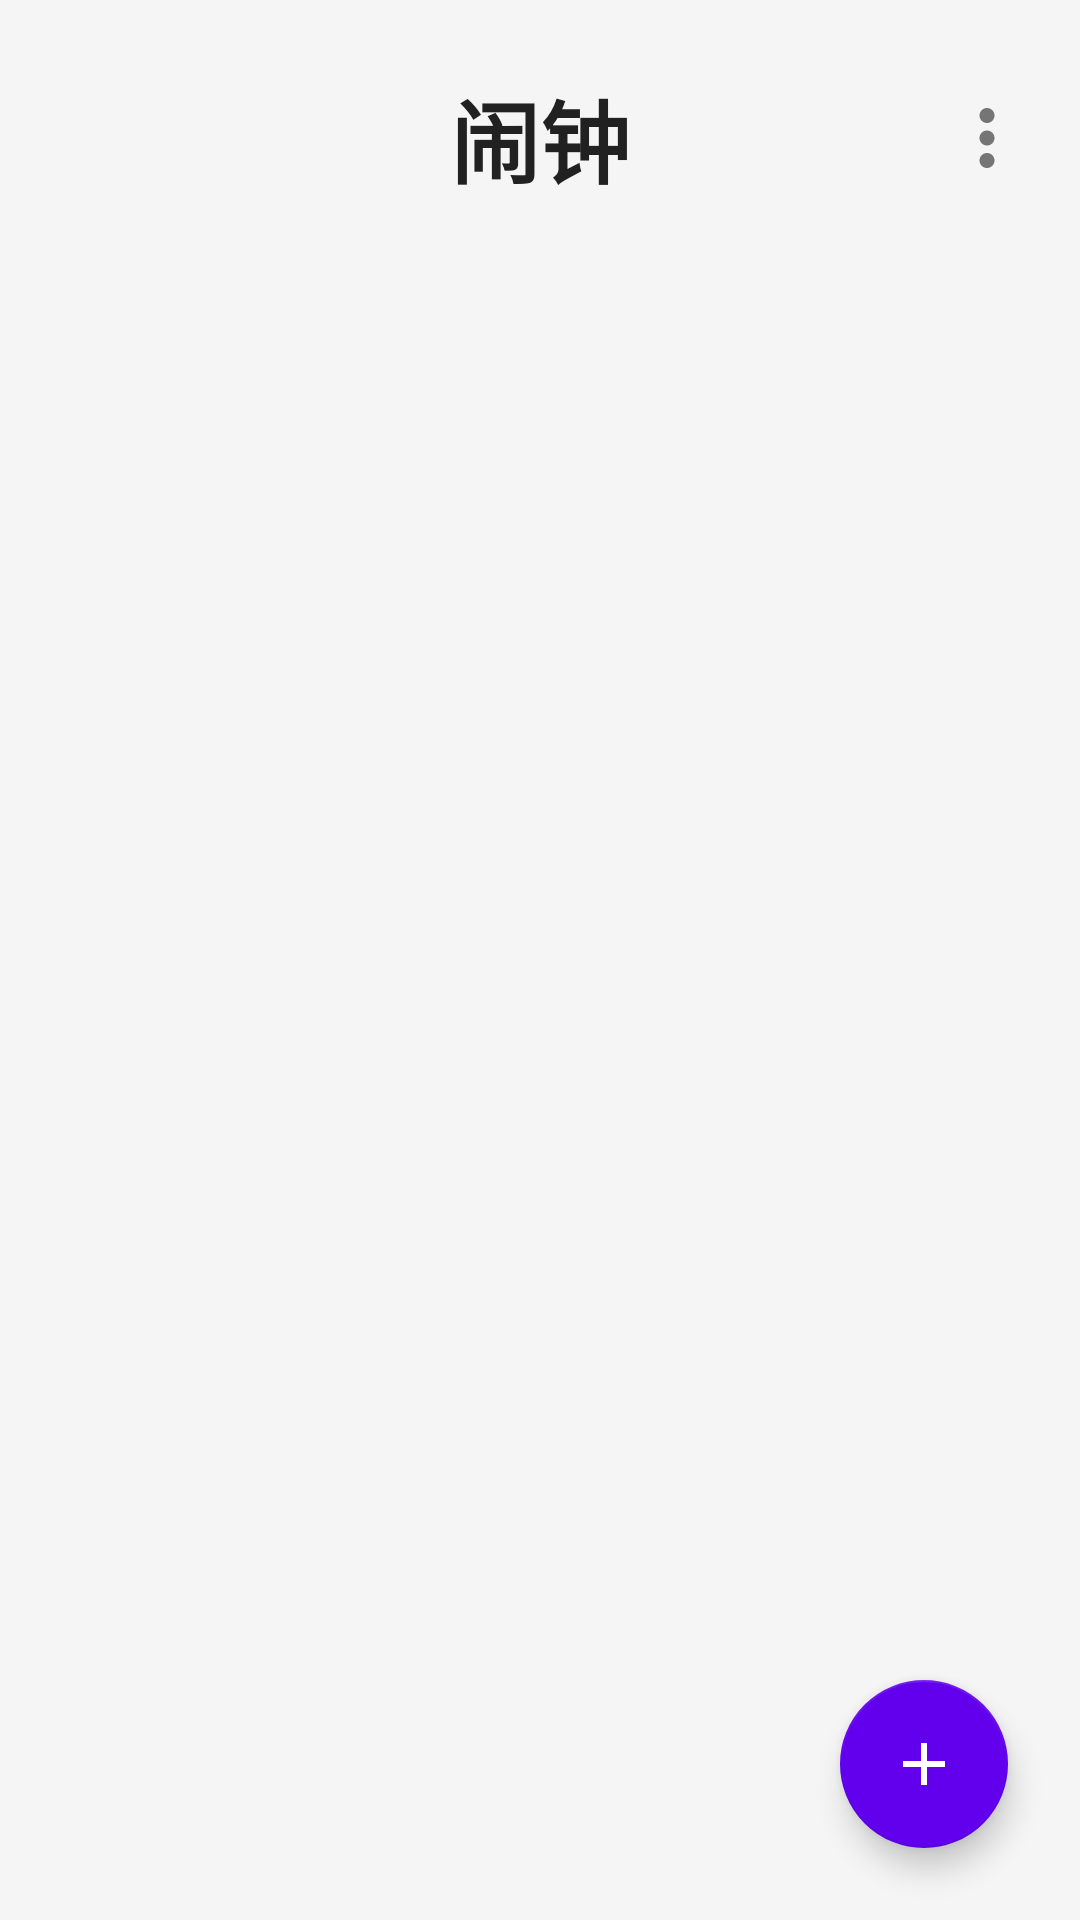

Screen size 1080w x 1920h. Icon name, then its box in pixels as bbox(x1, y1, x2, y2):
add: bbox(840, 1680, 1008, 1848)
设置: bbox(979, 108, 995, 168)
